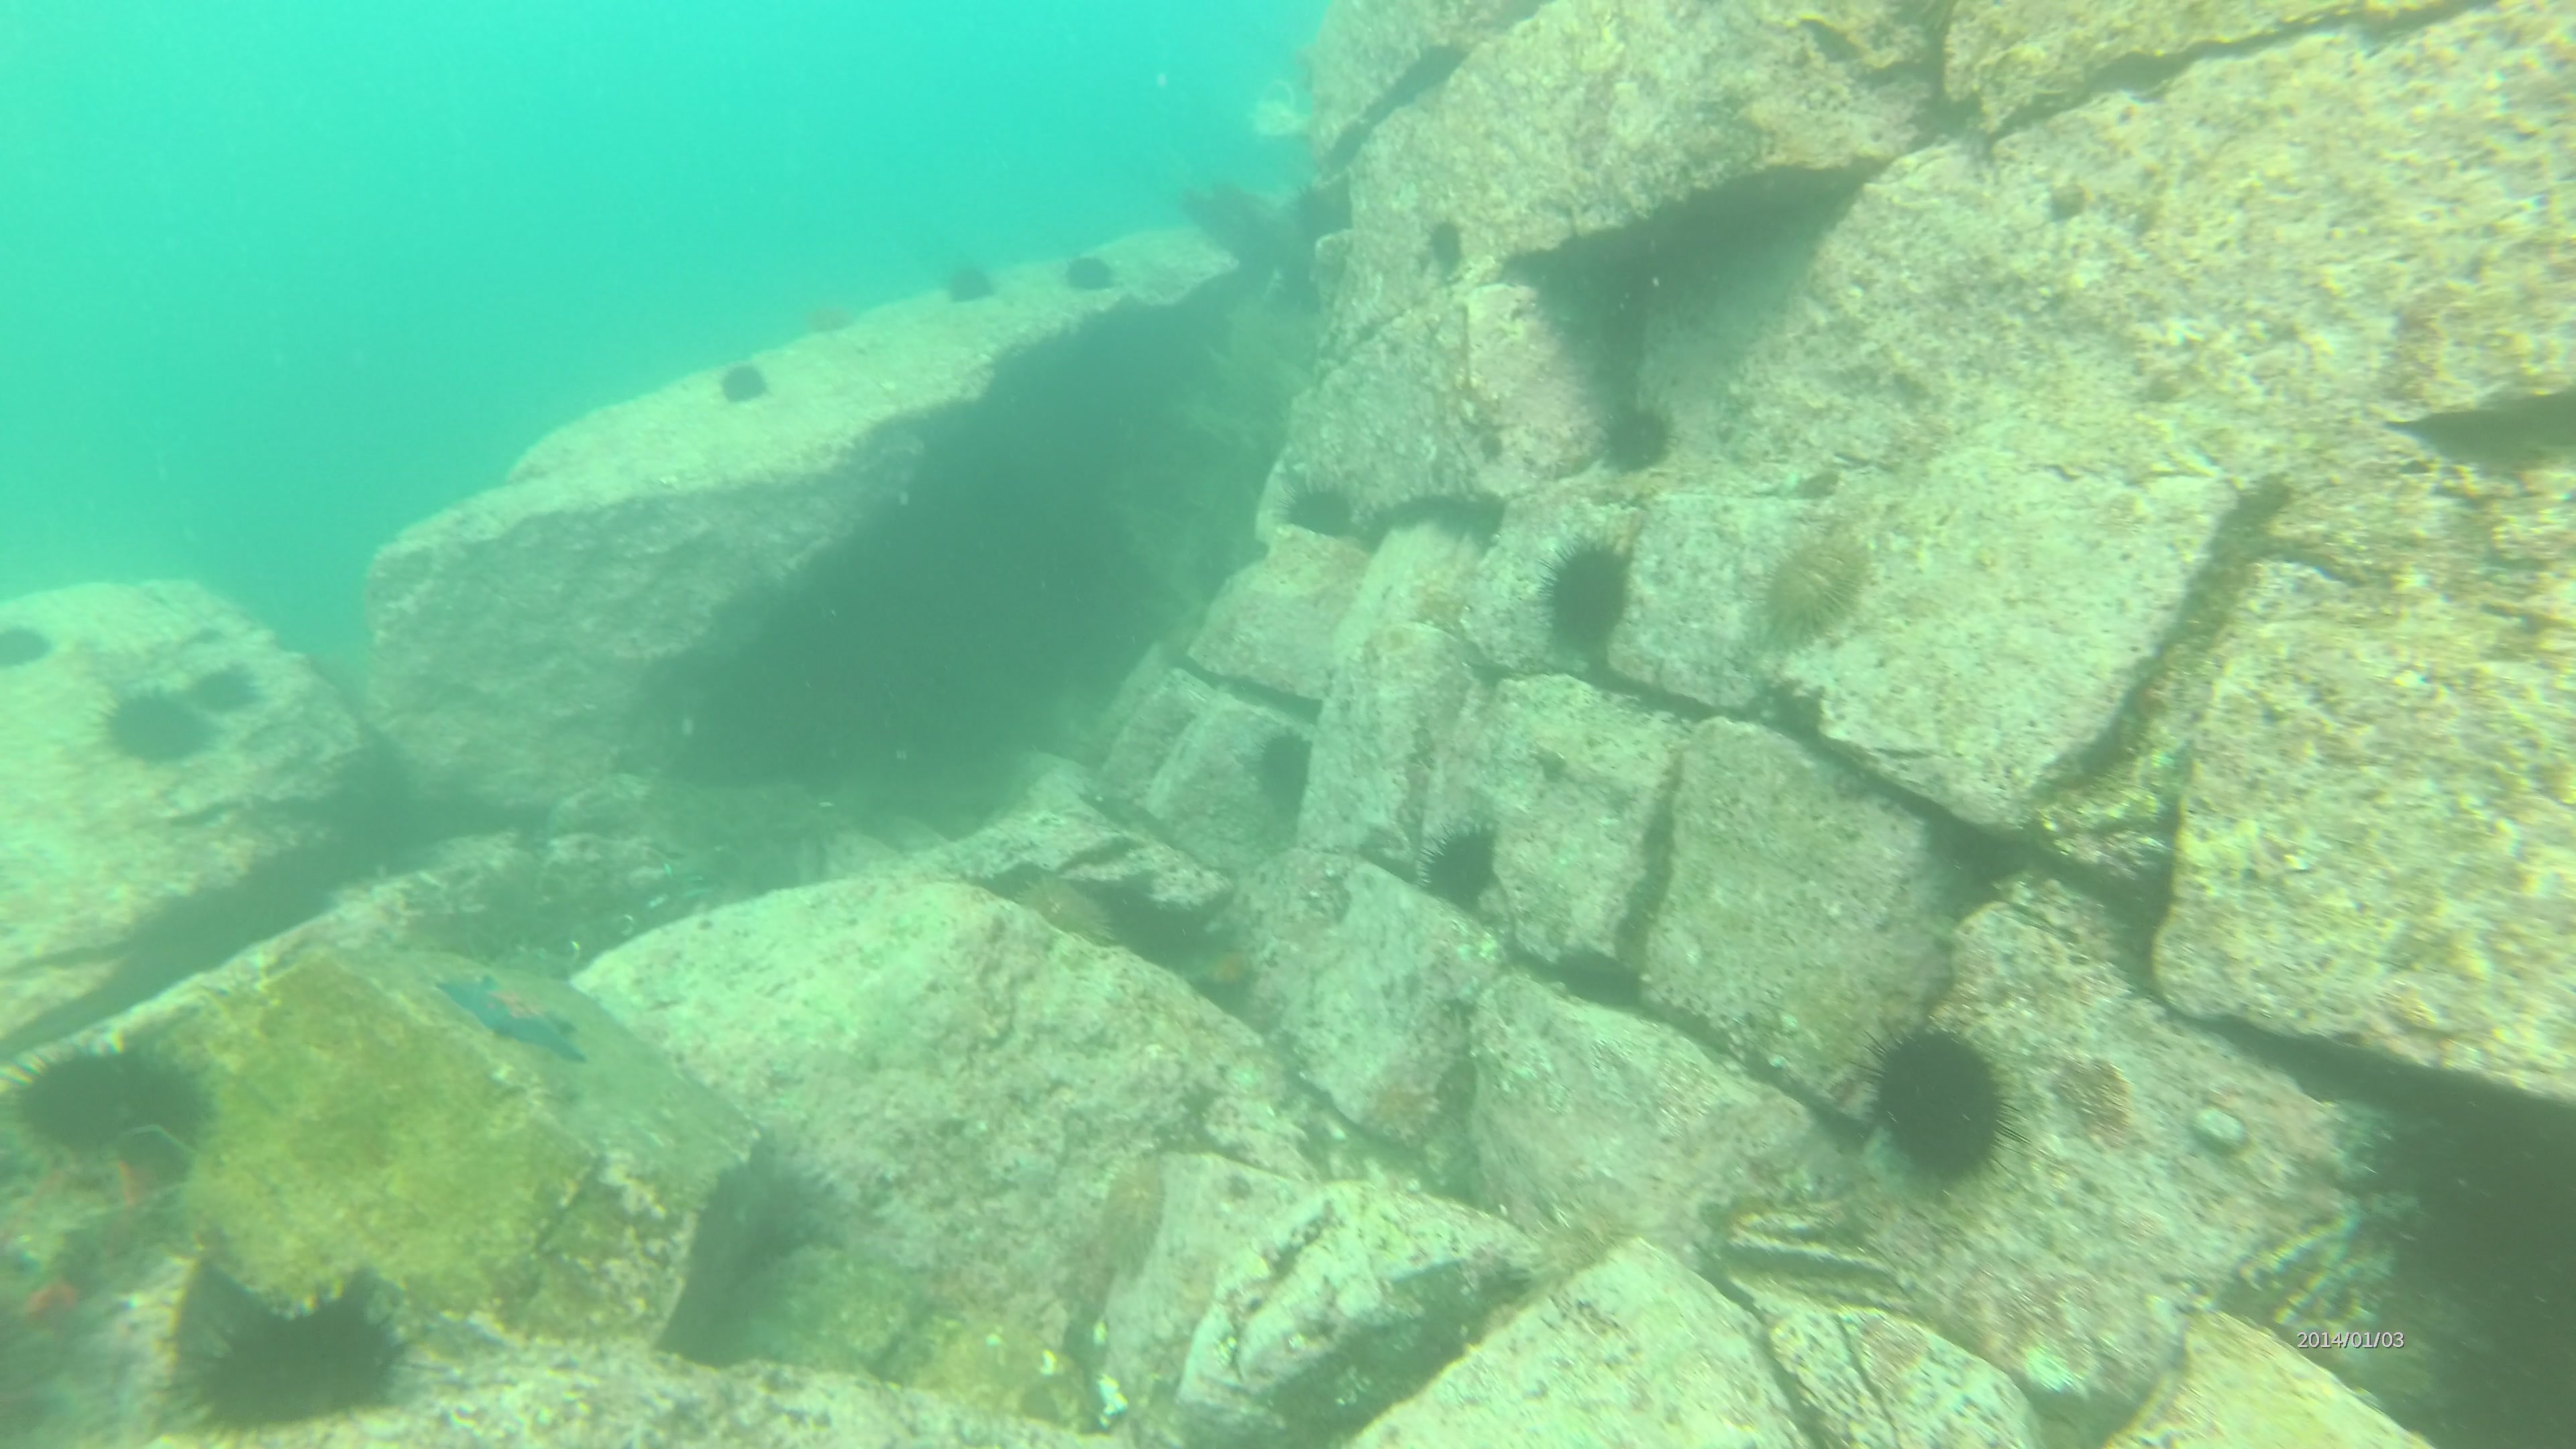echinus: (156, 1295, 416, 1444), (1847, 1005, 2038, 1203), (5, 1021, 142, 1166), (1764, 520, 1874, 644), (97, 679, 230, 771), (1539, 534, 1635, 656), (1415, 814, 1507, 913), (1249, 725, 1336, 823), (1587, 393, 1674, 474), (1279, 479, 1362, 538), (717, 352, 777, 414), (1058, 251, 1122, 297), (938, 264, 1001, 306)
starfish: (433, 959, 593, 1072)
